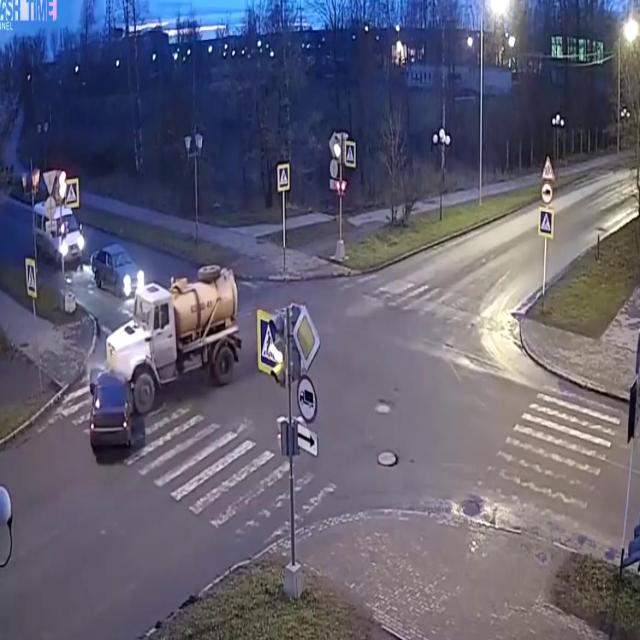accident: (77, 255, 243, 466)
